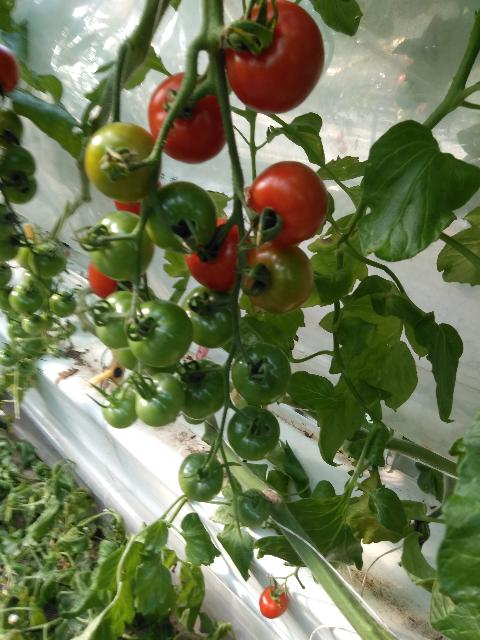l_fully_ripened: (226, 0, 325, 115), (148, 72, 226, 165), (247, 160, 330, 247), (184, 217, 253, 292), (88, 263, 134, 299), (0, 44, 20, 95), (259, 586, 288, 619)
l_green: (143, 181, 217, 255), (88, 210, 154, 281), (127, 299, 193, 368), (182, 285, 241, 349), (231, 343, 291, 405), (174, 359, 226, 420), (227, 406, 280, 462), (96, 290, 145, 348), (135, 373, 185, 427), (178, 452, 224, 503), (101, 391, 137, 430), (236, 487, 270, 528), (27, 243, 65, 279), (0, 145, 36, 182), (9, 279, 44, 313), (2, 176, 37, 205), (0, 105, 23, 148), (112, 346, 149, 371), (49, 290, 76, 317), (0, 227, 20, 262), (21, 313, 42, 334), (0, 346, 19, 367), (0, 262, 11, 287)
l_half_ripened: (83, 122, 160, 203), (241, 243, 315, 314)
